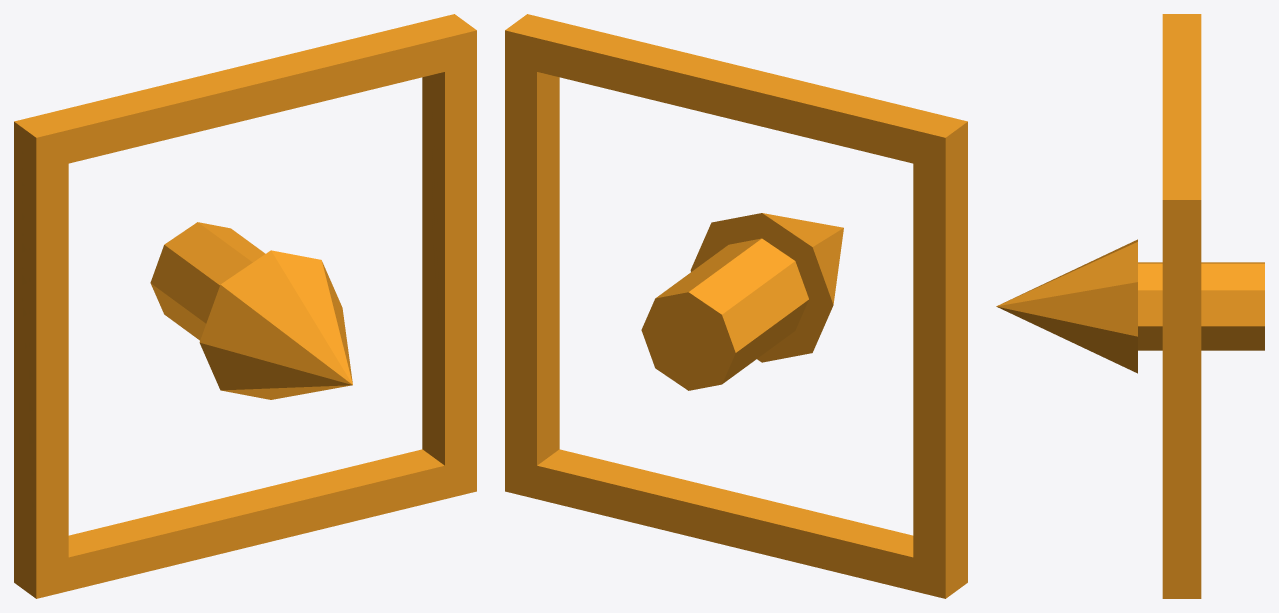
The model's file is SM_Icon_Light_Area_01.fbx.
3 views of the same model, side by side, from view 1: azimuth 30°, elevation 25°; view 2: azimuth 150°, elevation 25°; view 3: azimuth 270°, elevation 25° (orthographic). The views are drawn at different scales.
Visible parts, largest first — view 1: SM_Icon_Light_Area_01; view 2: SM_Icon_Light_Area_01; view 3: SM_Icon_Light_Area_01.
Boxes of the visible parts, x1,y1,x2,y2 form: SM_Icon_Light_Area_01: (14,14,476,598); SM_Icon_Light_Area_01: (505,14,967,598); SM_Icon_Light_Area_01: (996,14,1264,598).
Size of the model in its own units: 69.29 by 69.29 by 42.34.
